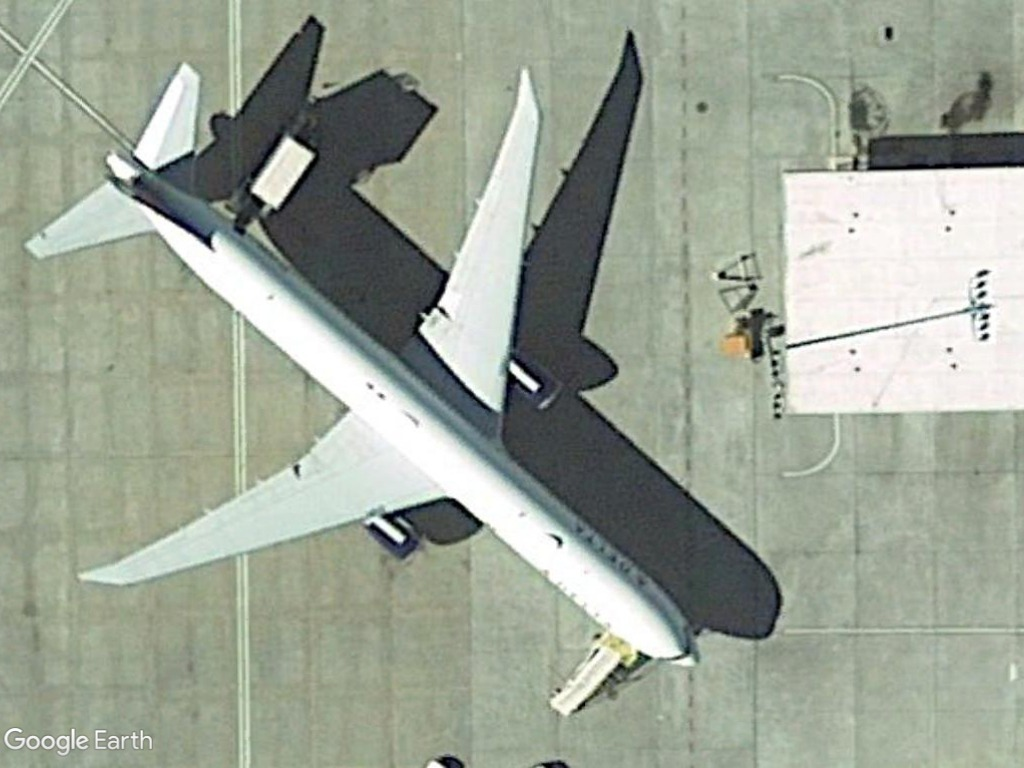airliner: (24, 44, 705, 679)
stairtruck: (546, 634, 632, 721)
